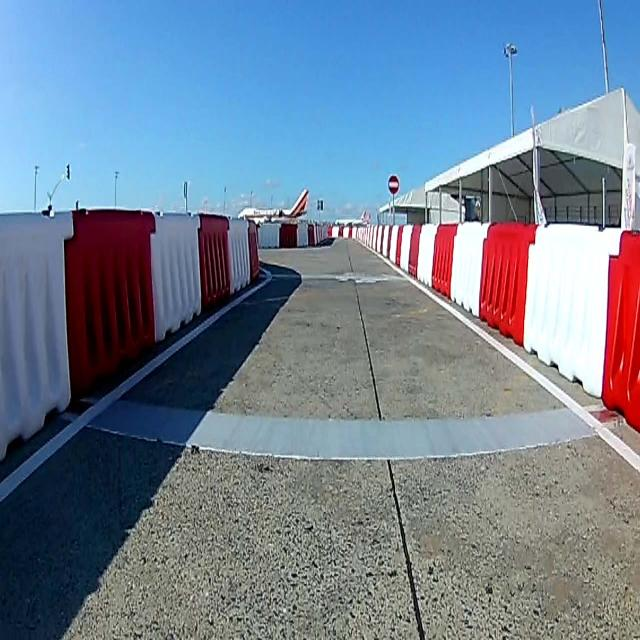girisyok: (387, 170, 400, 197)
